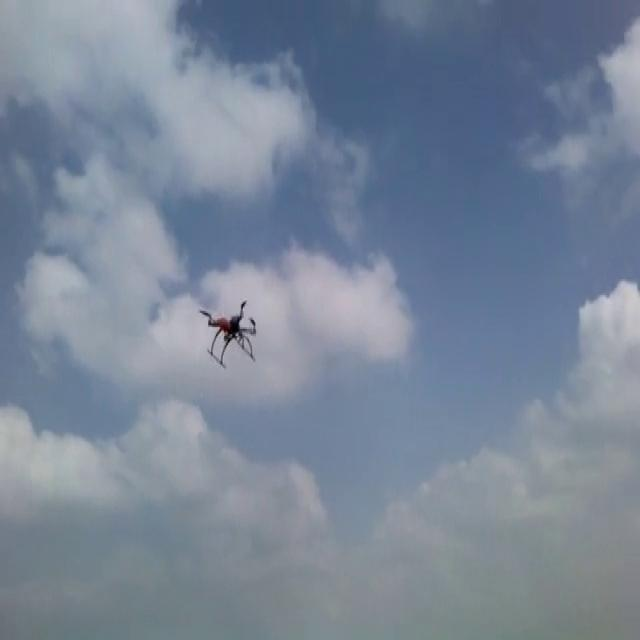drone: (198, 297, 257, 370)
